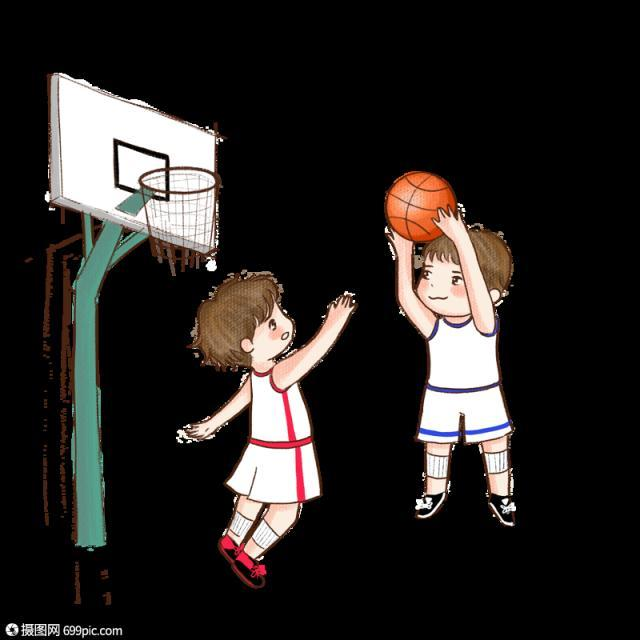rim: (381, 163, 457, 246)
